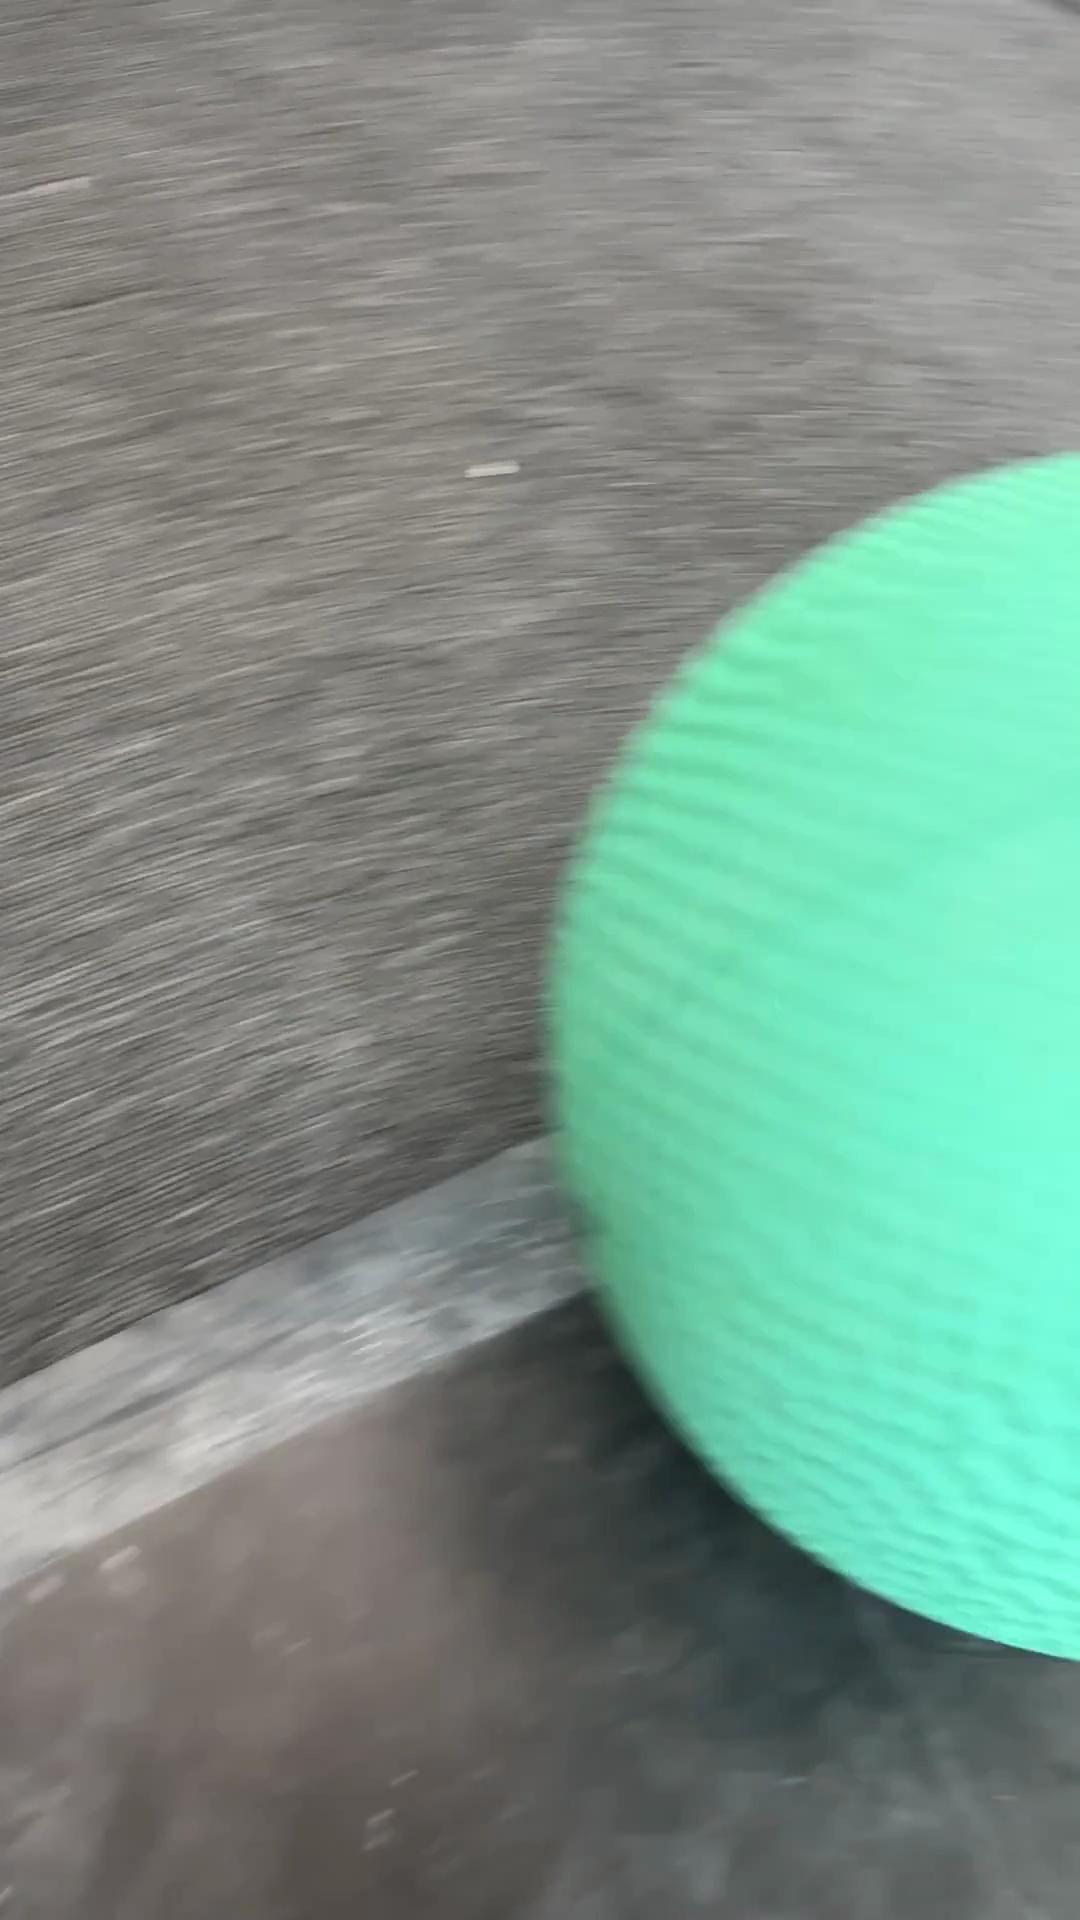ALGAE: (535, 447, 1077, 1662)
